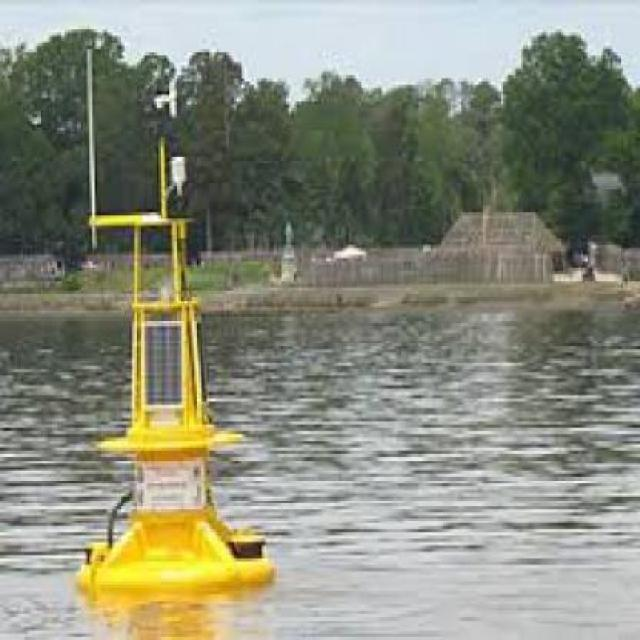no-oil: (234, 305, 640, 640)
